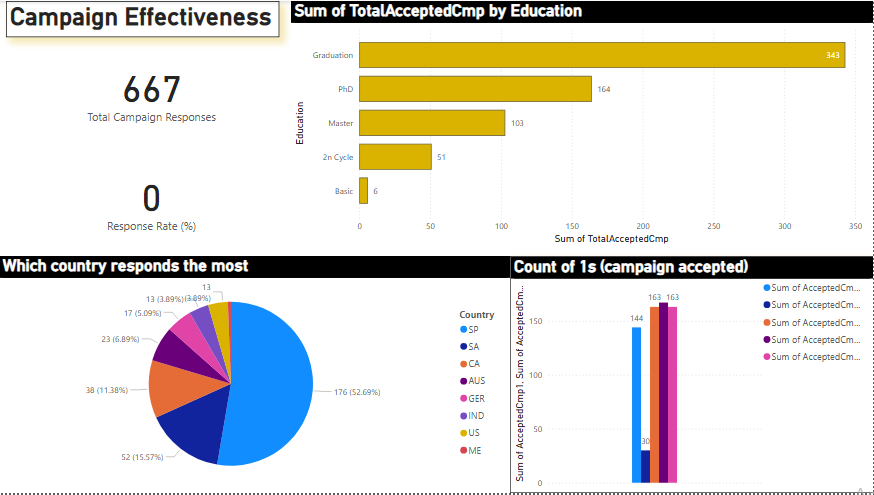

The page's visual inventory and layout, read from the dashboard file:
{"tool":"powerbi","page":{"name":"Page 2","canvas":[1280,720],"ordinal":1},"visuals":[{"type":"textbox","title":"Campaign Effectiveness","box":[10.2,0,399.5,52.7],"z":0},{"type":"card","fields":{"Values":["cleaned_marketing_data.Total Campaign Responses"]},"box":[0,73.2,446.3,117.1],"z":1000},{"type":"card","fields":{"Values":["cleaned_marketing_data.Response Rate (%)"]},"box":[0,232.7,446.3,117.1],"z":2000},{"type":"clusteredColumnChart","title":"Count of 1s (campaign accepted)","fields":{"Y":["Sum(cleaned_marketing_data.AcceptedCmp1)","Sum(cleaned_marketing_data.AcceptedCmp2)","Sum(cleaned_marketing_data.AcceptedCmp3)","Sum(cleaned_marketing_data.AcceptedCmp4)","Sum(cleaned_marketing_data.AcceptedCmp5)"]},"box":[747.8,373.2,532.7,346.8],"z":3000},{"type":"pieChart","title":"Which country responds the most","fields":{"Category":["cleaned_marketing_data.Country"],"Y":["Sum(cleaned_marketing_data.Response)"]},"box":[0,373.2,747.8,346.8],"z":4000},{"type":"barChart","fields":{"Category":["cleaned_marketing_data.Education"],"Y":["Sum(cleaned_marketing_data.TotalAcceptedCmp)"]},"box":[427.3,0,853.2,360],"z":5000}]}

Visuals, with their boxes in screenshot pixels (x1, y1, x2, y2), scaled from the page's 1280x720 canvas onto the 874x495 screenshot:
"Campaign Effectiveness" textbox: bbox(7, 0, 280, 36)
card - cleaned_marketing_data.Total Campaign Responses: bbox(0, 50, 305, 131)
card - cleaned_marketing_data.Response Rate (%): bbox(0, 160, 305, 240)
"Count of 1s (campaign accepted)" clusteredColumnChart: bbox(511, 257, 873, 494)
"Which country responds the most" pieChart: bbox(0, 257, 511, 494)
barChart - cleaned_marketing_data.Education x Sum(cleaned_marketing_data.TotalAcceptedCmp): bbox(292, 0, 873, 248)
